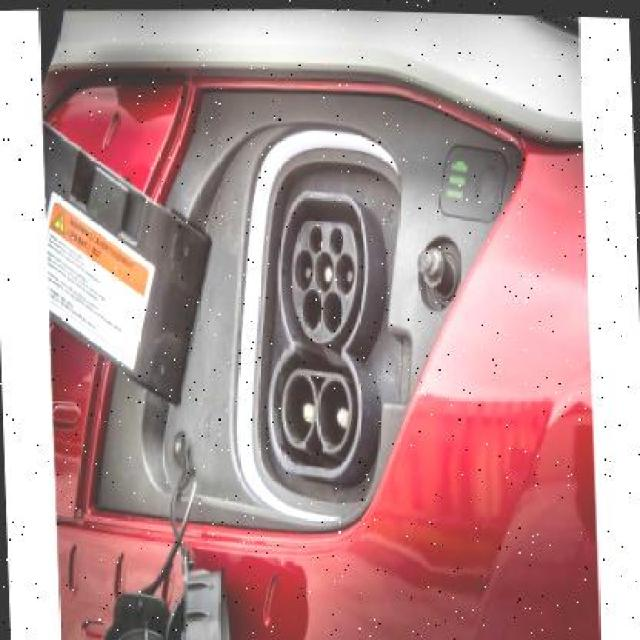CCS2: (255, 185, 402, 494)
